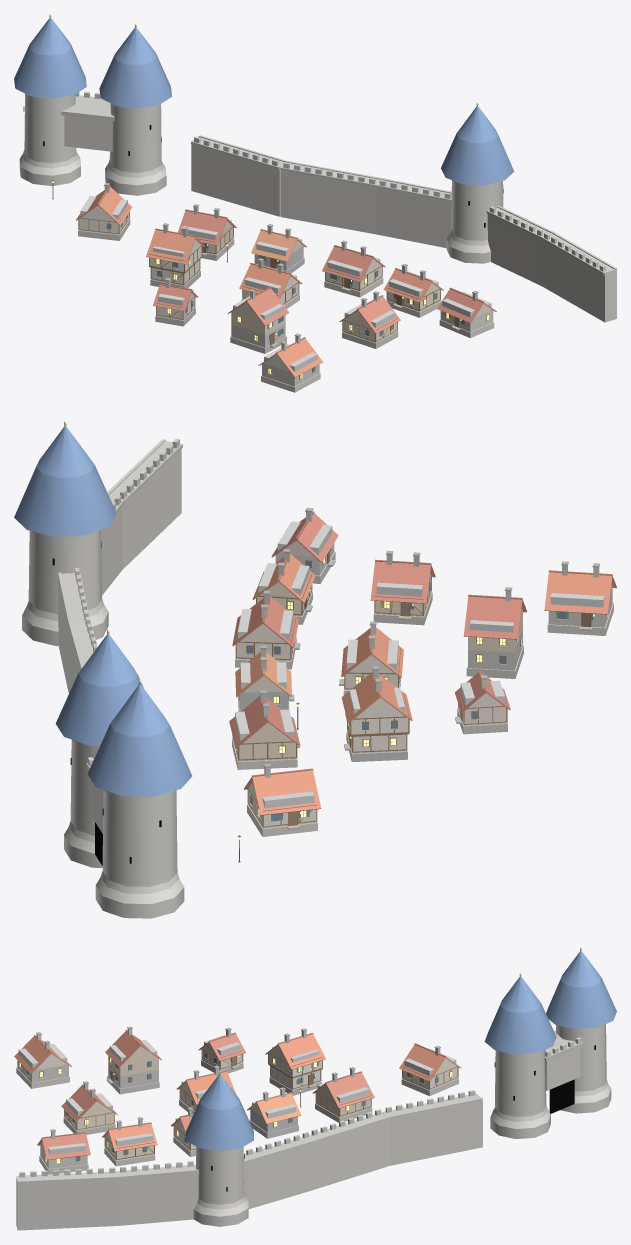
File: struct_9_7.glb
3 renders of one model, top to bottom at view 1: azimuth 30°, elevation 25°; view 2: azimuth 150°, elevation 25°; view 3: azimuth 270°, elevation 25°, orthographic. The views are drawn at different scales.
Parts seen in each view (by area): view 1: Landmarks, HousesNear, Occluder-occonly, HousesFar; view 2: Landmarks, HousesNear, Occluder-occonly, HousesFar; view 3: Landmarks, HousesNear, Occluder-occonly, HousesFar.
Boxes of the visible parts, <box> form: Landmarks: <box>14,14,616,322</box>; HousesNear: <box>76,183,496,392</box>; Occluder-occonly: <box>80,195,491,371</box>; HousesFar: <box>182,204,464,343</box>; Landmarks: <box>14,421,299,918</box>; HousesNear: <box>229,508,616,836</box>; Occluder-occonly: <box>235,521,604,808</box>; HousesFar: <box>260,548,593,741</box>; Landmarks: <box>16,947,616,1230</box>; HousesNear: <box>14,1026,461,1174</box>; Occluder-occonly: <box>18,1035,456,1154</box>; HousesFar: <box>44,1033,355,1126</box>.
Bounding box in the file's own units: 82.62 × 35.06 × 125.
